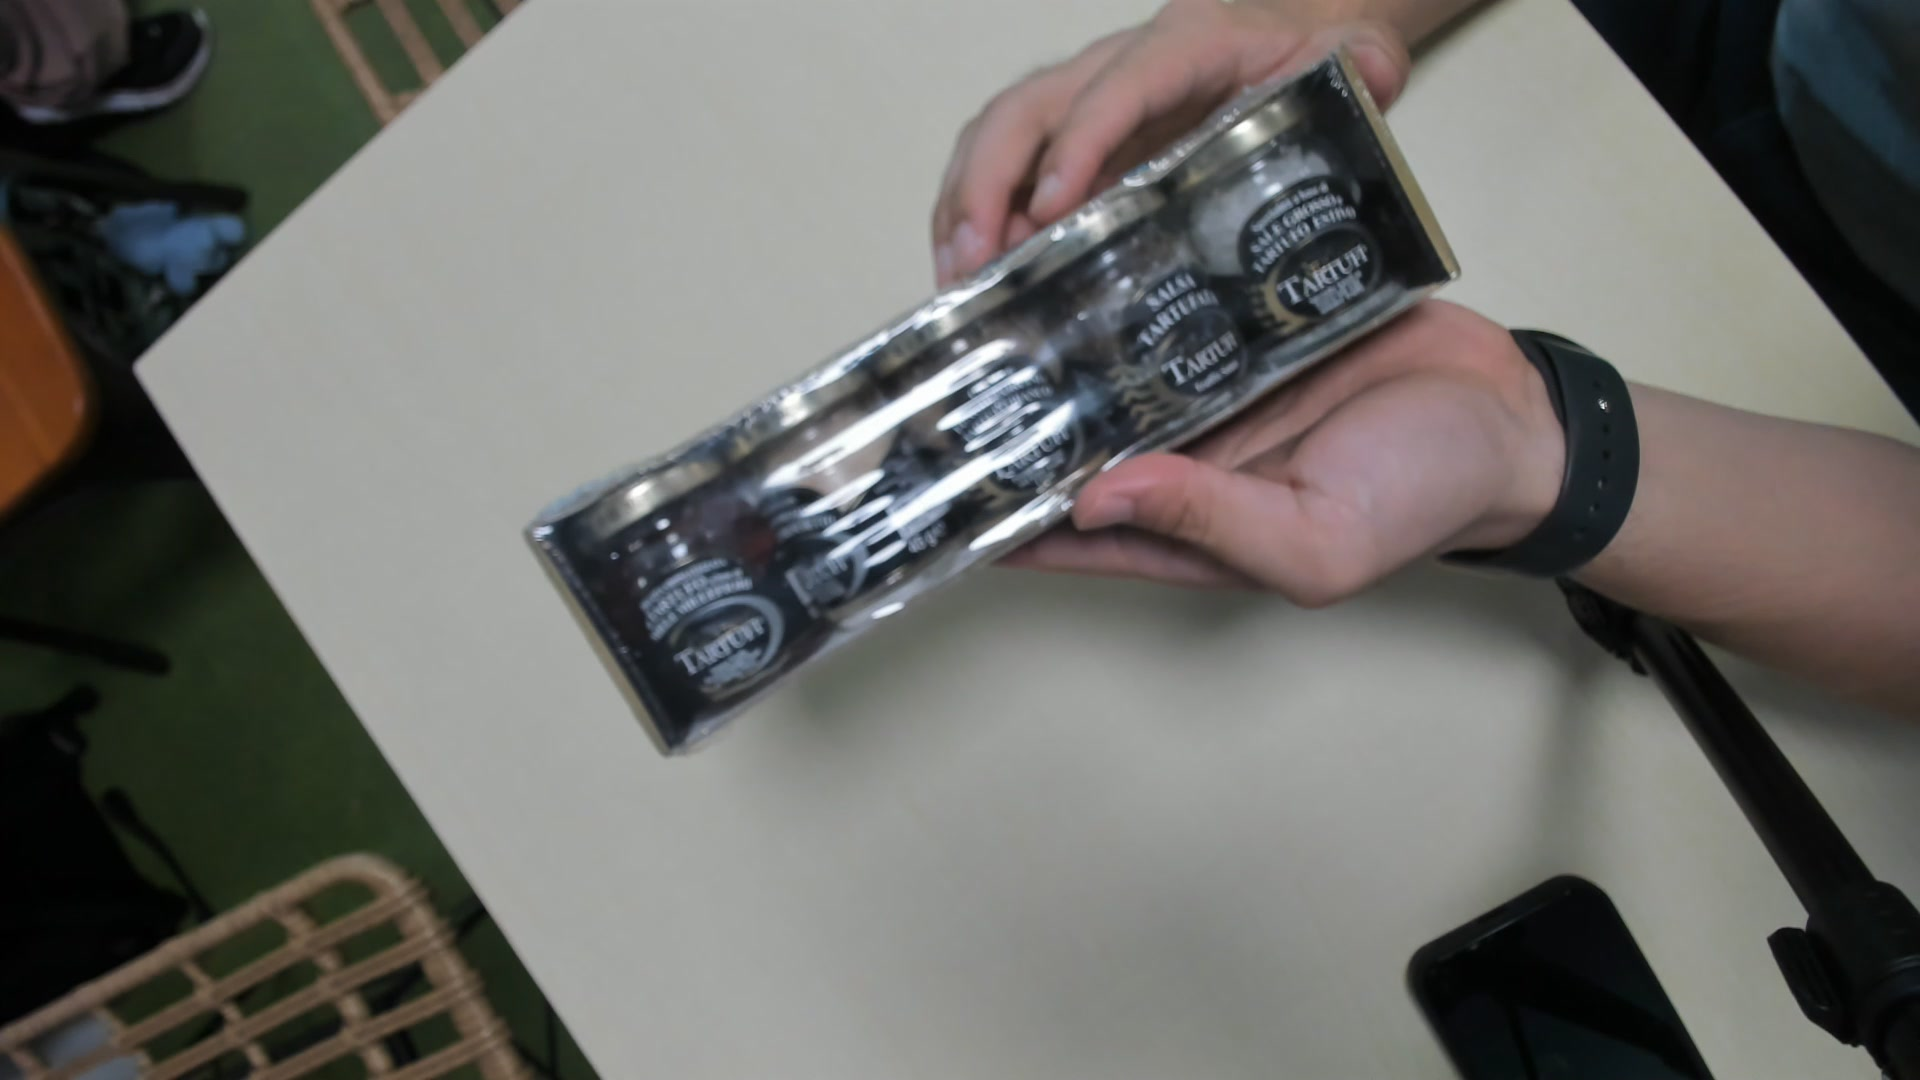OtherSauceDressing_500-599g_NonHalal_NonHealthy: (538, 51, 1460, 752)
